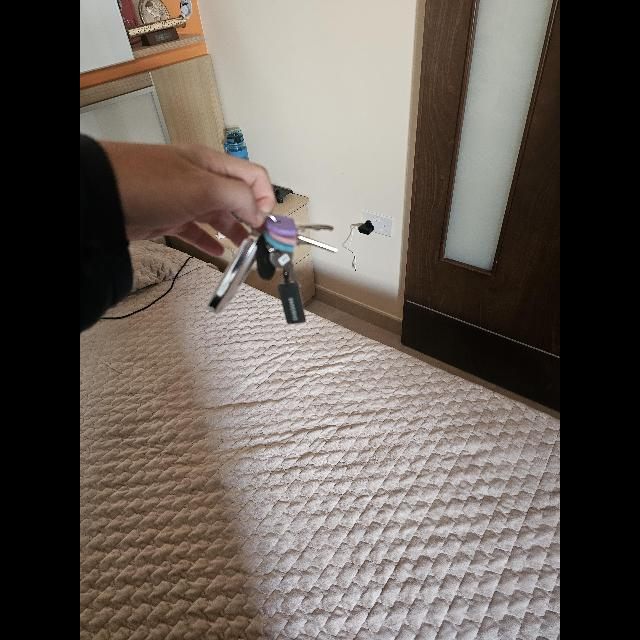Keys: (207, 211, 335, 321)
